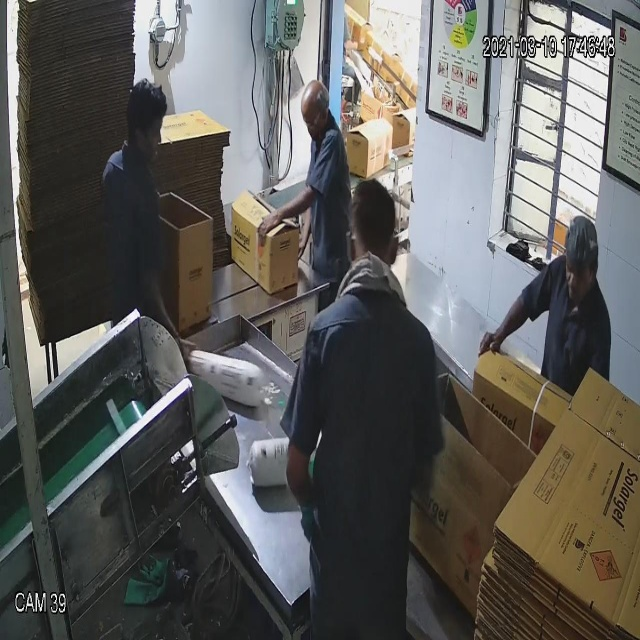Sin_guantes: (136, 252, 193, 370), (475, 274, 539, 377), (248, 172, 321, 259)
